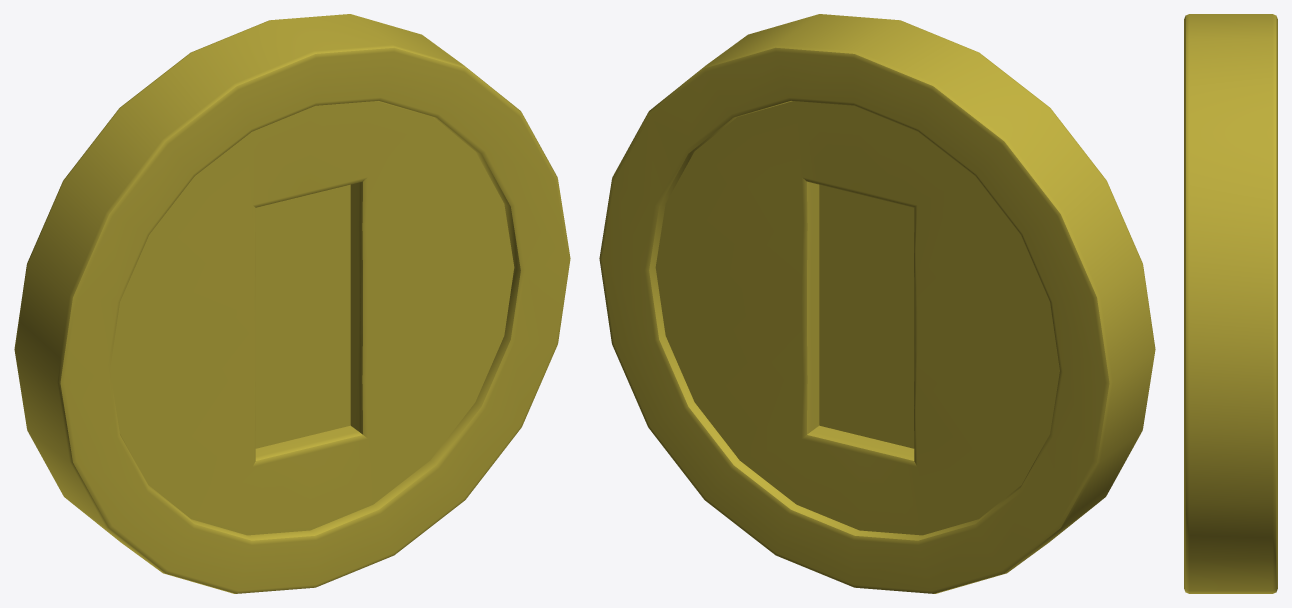
File: Coin.fbx
3 views of the same model, side by side, from view 1: azimuth 30°, elevation 25°; view 2: azimuth 150°, elevation 25°; view 3: azimuth 270°, elevation 25° (orthographic).
Visible parts, largest first — view 1: Coin1; view 2: Coin1; view 3: Coin1.
Boxes of the visible parts, left/top/right/bottom form: Coin1: left=14, top=14, right=570, bottom=593; Coin1: left=599, top=14, right=1155, bottom=593; Coin1: left=1184, top=14, right=1277, bottom=593.
Bounding box in the file's own units: 12.44 × 12.44 × 2.
